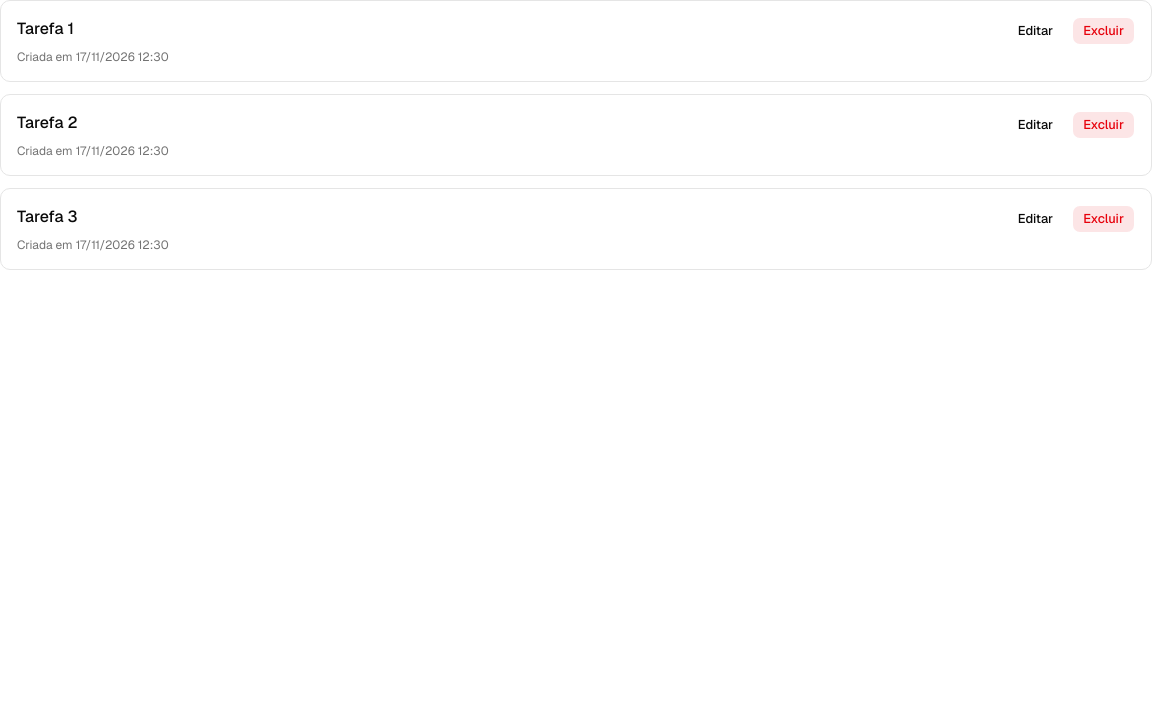
Test: TarefaLista › repassa estaExcluindo por id ao diálogo
Click the button with aria-label "Excluir Tarefa 2": (1104, 125) [1072,111,1135,139]
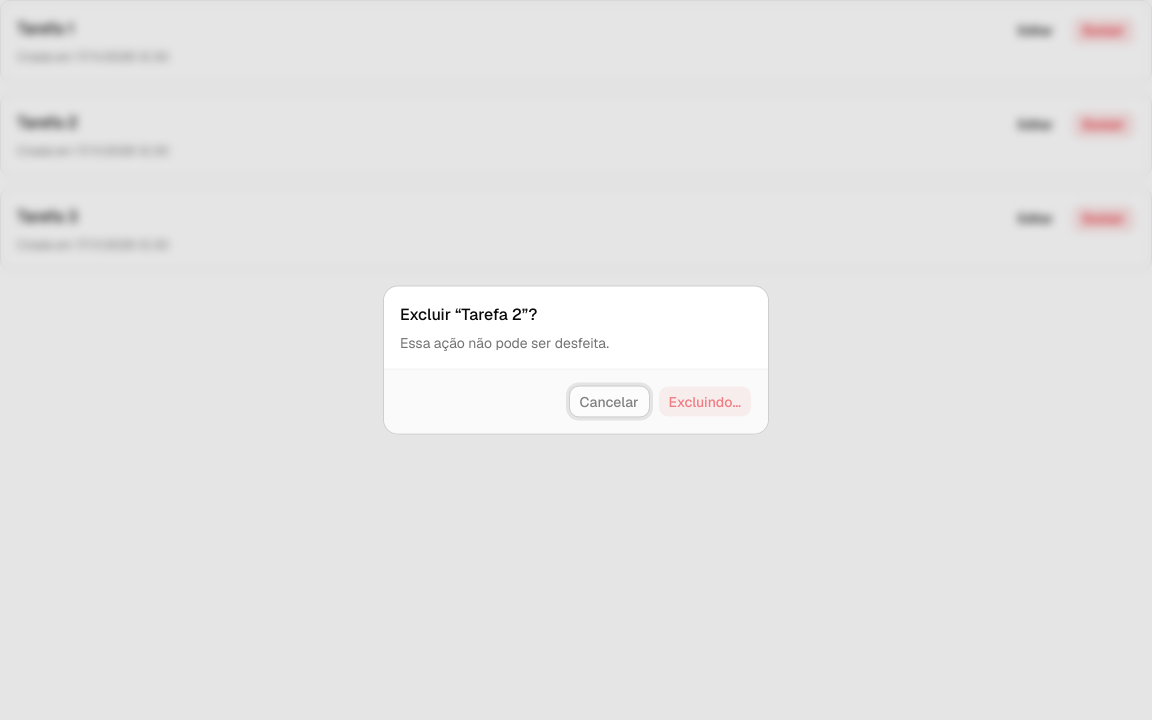
expect the button "Excluindo…" is shown: met, box [658,386,752,418]
